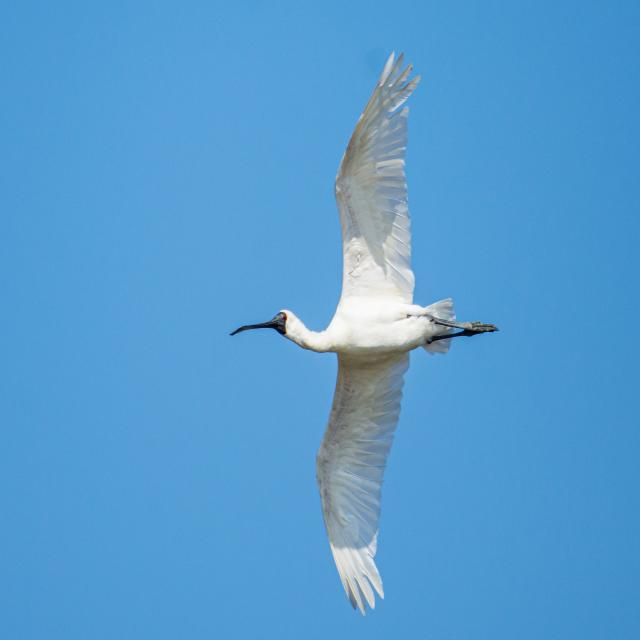Black-faced spoonbill: (232, 54, 497, 613)
